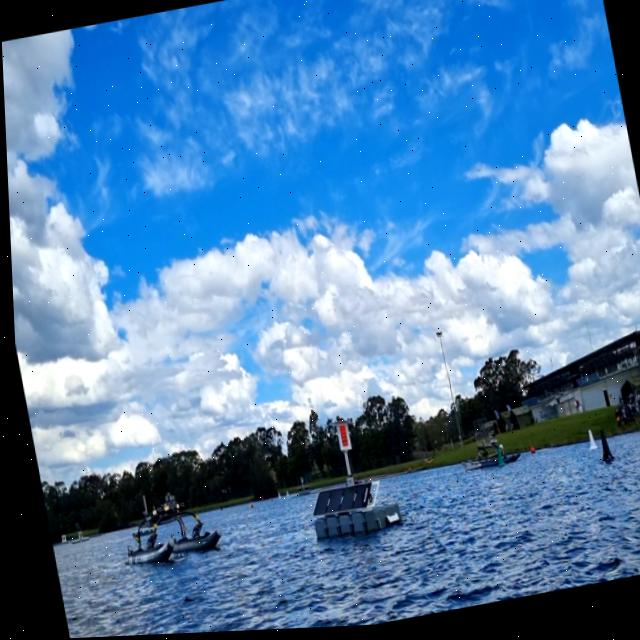led: (333, 426, 346, 452)
